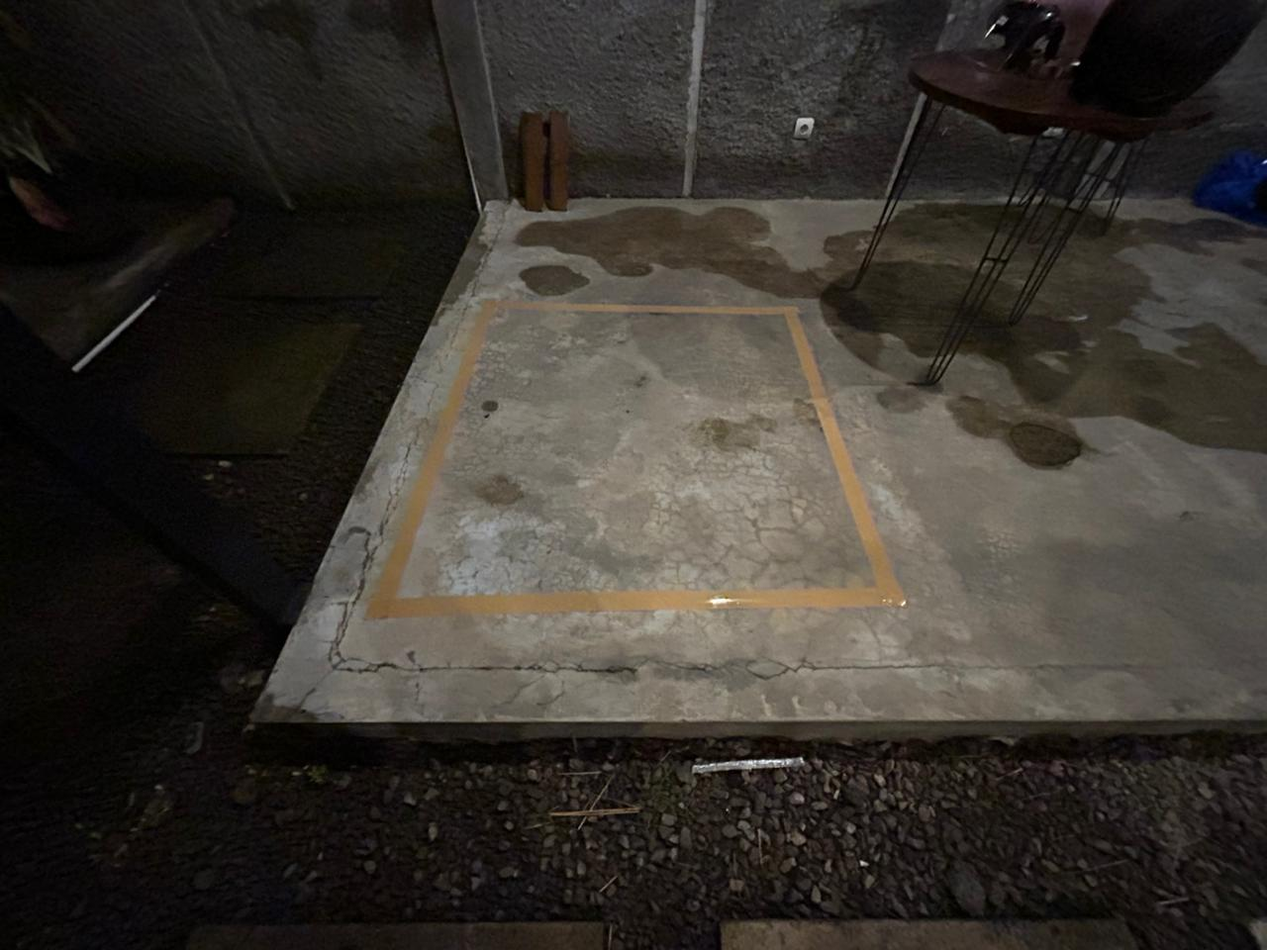floor marking: (366, 300, 904, 619)
